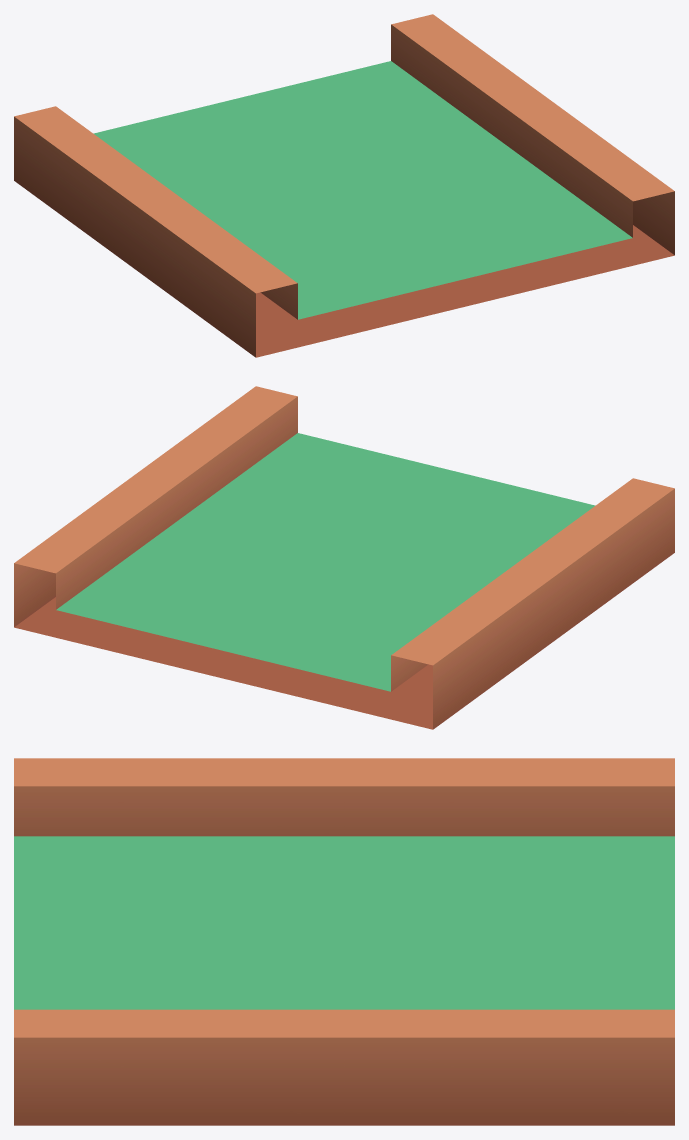
The model's file is spline-default.glb.
3 views of the same model, one above another, from view 1: azimuth 30°, elevation 25°; view 2: azimuth 150°, elevation 25°; view 3: azimuth 270°, elevation 25° (orthographic). The views are drawn at different scales.
Visible parts, largest first — view 1: spline-default; view 2: spline-default; view 3: spline-default.
Boxes of the visible parts, x1=… form: spline-default: x1=14, y1=14, x2=674, y2=357; spline-default: x1=14, y1=386, x2=674, y2=729; spline-default: x1=14, y1=758, x2=674, y2=1125.
Bounding box in the file's own units: 0.9999 × 0.1466 × 0.9999.
1 material, 1 textured.
